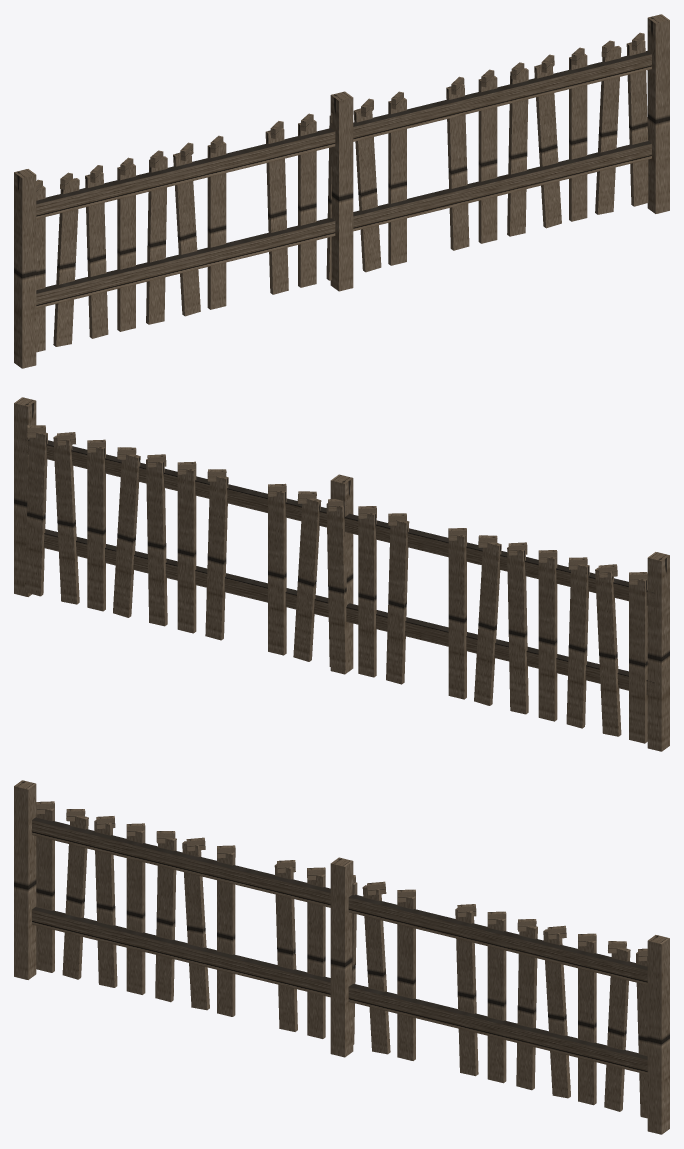
Rendered from WK_WALL_PicketFence4m.glb.
3 views of the same model, one above another, from view 1: azimuth 30°, elevation 25°; view 2: azimuth 150°, elevation 25°; view 3: azimuth 330°, elevation 25° (orthographic).
Visible parts, largest first — view 1: WK_WALL_PicketFence4m_P05, WK_WALL_PicketFence4m_P04, WK_WALL_PicketFence4m_P01, WK_WALL_PicketFence4m_P02, WK_WALL_PicketFence4m_P03, WK_WALL_PicketFence4m_P32, WK_WALL_PicketFence4m_P18, WK_WALL_PicketFence4m_P08, WK_WALL_PicketFence4m_P40, WK_WALL_PicketFence4m_P14, WK_WALL_PicketFence4m_P34, WK_WALL_PicketFence4m_P30 (+12 smaller); view 2: WK_WALL_PicketFence4m_P04, WK_WALL_PicketFence4m_P05, WK_WALL_PicketFence4m_P01, WK_WALL_PicketFence4m_P12, WK_WALL_PicketFence4m_P32, WK_WALL_PicketFence4m_P26, WK_WALL_PicketFence4m_P16, WK_WALL_PicketFence4m_P30, WK_WALL_PicketFence4m_P10, WK_WALL_PicketFence4m_P08, WK_WALL_PicketFence4m_P36, WK_WALL_PicketFence4m_P40 (+12 smaller); view 3: WK_WALL_PicketFence4m_P04, WK_WALL_PicketFence4m_P05, WK_WALL_PicketFence4m_P03, WK_WALL_PicketFence4m_P02, WK_WALL_PicketFence4m_P01, WK_WALL_PicketFence4m_P12, WK_WALL_PicketFence4m_P32, WK_WALL_PicketFence4m_P40, WK_WALL_PicketFence4m_P34, WK_WALL_PicketFence4m_P08, WK_WALL_PicketFence4m_P36, WK_WALL_PicketFence4m_P16 (+11 smaller).
Part boxes in pixels (<box>): WK_WALL_PicketFence4m_P05: <box>36,51,651,219</box>; WK_WALL_PicketFence4m_P04: <box>36,141,651,308</box>; WK_WALL_PicketFence4m_P01: <box>14,169,36,368</box>; WK_WALL_PicketFence4m_P02: <box>330,91,353,291</box>; WK_WALL_PicketFence4m_P03: <box>647,14,669,213</box>; WK_WALL_PicketFence4m_P32: <box>478,75,497,243</box>; WK_WALL_PicketFence4m_P18: <box>207,141,226,309</box>; WK_WALL_PicketFence4m_P08: <box>53,178,79,346</box>; WK_WALL_PicketFence4m_P40: <box>595,46,621,214</box>; WK_WALL_PicketFence4m_P14: <box>146,156,167,324</box>; WK_WALL_PicketFence4m_P34: <box>507,68,528,236</box>; WK_WALL_PicketFence4m_P30: <box>446,84,469,250</box>; WK_WALL_PicketFence4m_P04: <box>21,529,654,695</box>; WK_WALL_PicketFence4m_P05: <box>23,439,654,606</box>; WK_WALL_PicketFence4m_P01: <box>647,552,669,751</box>; WK_WALL_PicketFence4m_P12: <box>538,557,557,721</box>; WK_WALL_PicketFence4m_P32: <box>177,469,196,633</box>; WK_WALL_PicketFence4m_P26: <box>293,498,321,661</box>; WK_WALL_PicketFence4m_P16: <box>474,542,501,705</box>; WK_WALL_PicketFence4m_P30: <box>205,476,228,640</box>; WK_WALL_PicketFence4m_P10: <box>566,564,589,728</box>; WK_WALL_PicketFence4m_P08: <box>595,567,621,736</box>; WK_WALL_PicketFence4m_P36: <box>113,454,140,617</box>; WK_WALL_PicketFence4m_P40: <box>53,435,79,604</box>; WK_WALL_PicketFence4m_P04: <box>32,907,647,1074</box>; WK_WALL_PicketFence4m_P05: <box>32,817,647,985</box>; WK_WALL_PicketFence4m_P03: <box>647,935,669,1134</box>; WK_WALL_PicketFence4m_P02: <box>330,857,353,1057</box>; WK_WALL_PicketFence4m_P01: <box>14,780,36,979</box>; WK_WALL_PicketFence4m_P12: <box>126,830,145,994</box>; WK_WALL_PicketFence4m_P32: <box>487,918,506,1083</box>; WK_WALL_PicketFence4m_P40: <box>604,948,630,1111</box>; WK_WALL_PicketFence4m_P34: <box>516,926,537,1090</box>; WK_WALL_PicketFence4m_P08: <box>62,816,88,979</box>; WK_WALL_PicketFence4m_P36: <box>543,929,570,1098</box>; WK_WALL_PicketFence4m_P16: <box>182,841,209,1010</box>.
Bounding box in the file's own units: 4.09 × 1.15 × 0.1366.
1 material, 1 textured.
